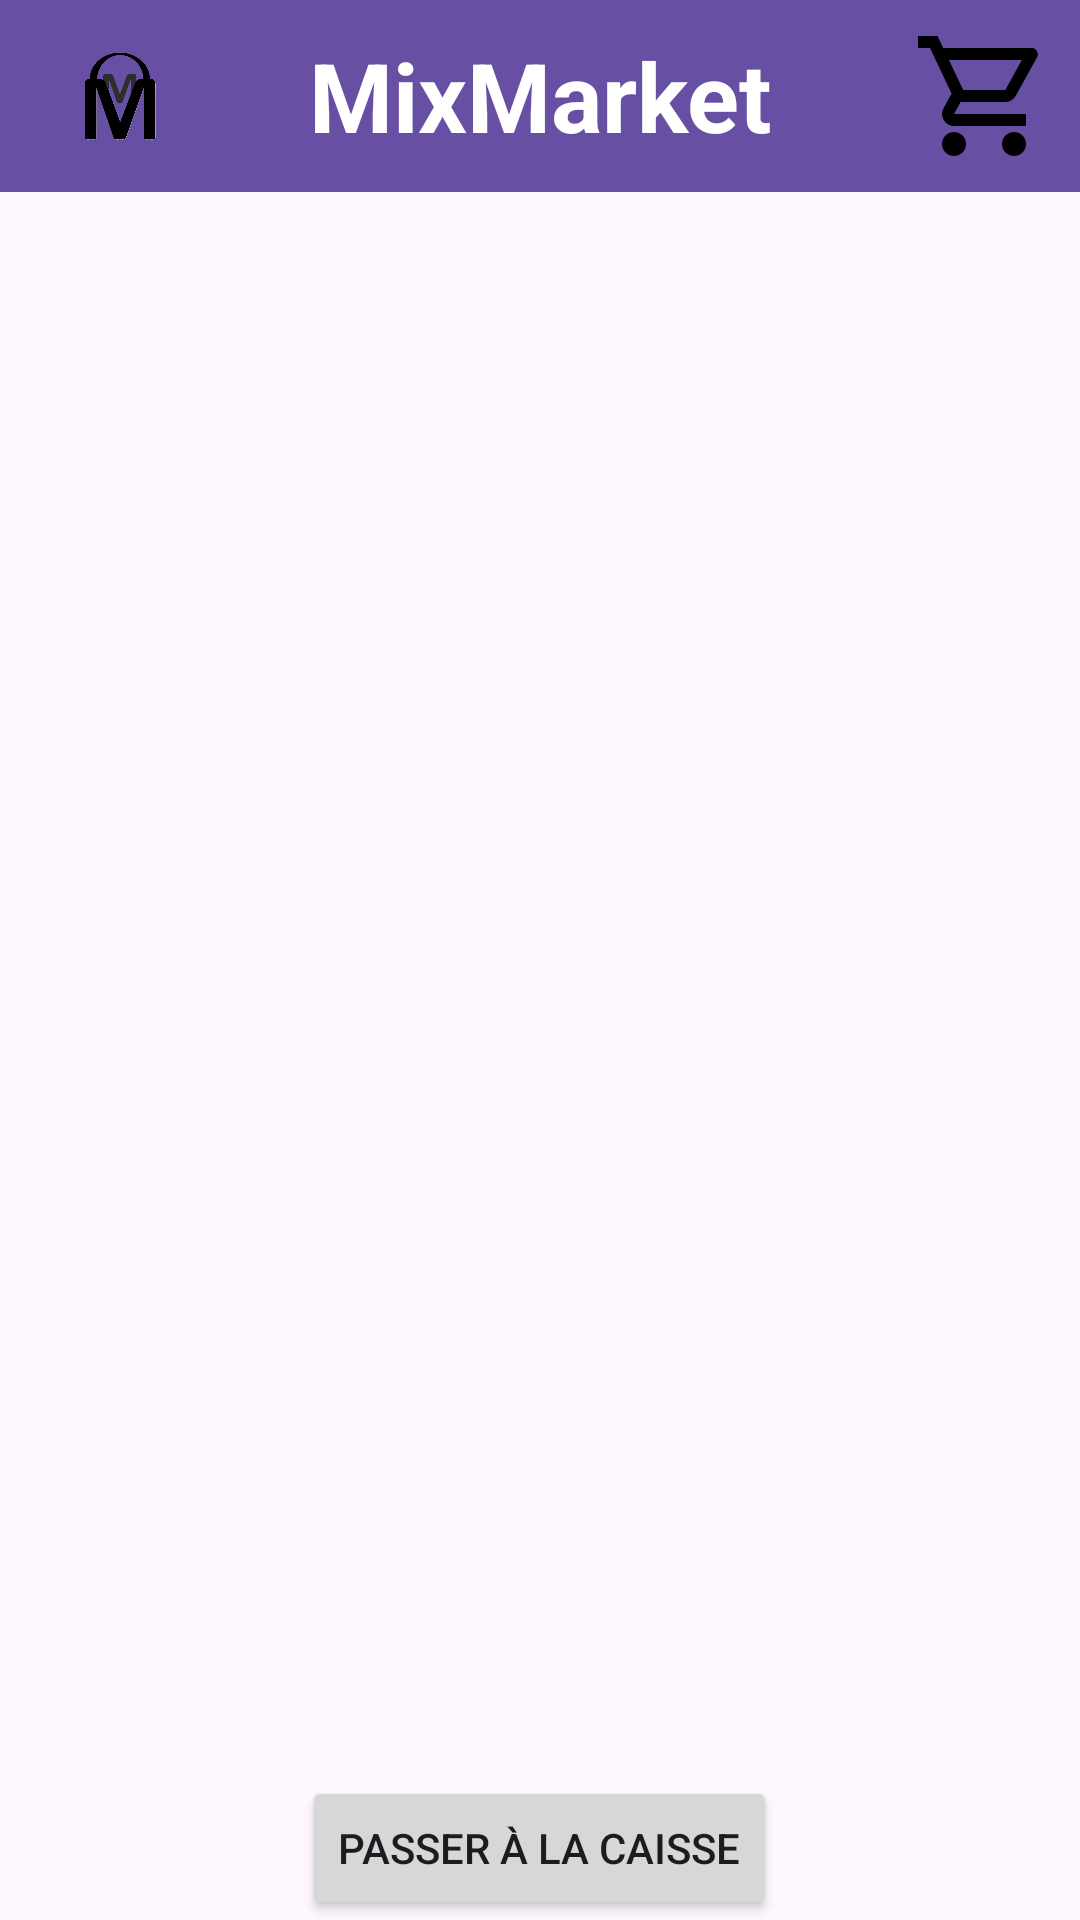

Screen size 1080px×1920px. Icon name, then its center in pixels as [x,y]:
shopping cart: [978,96]
